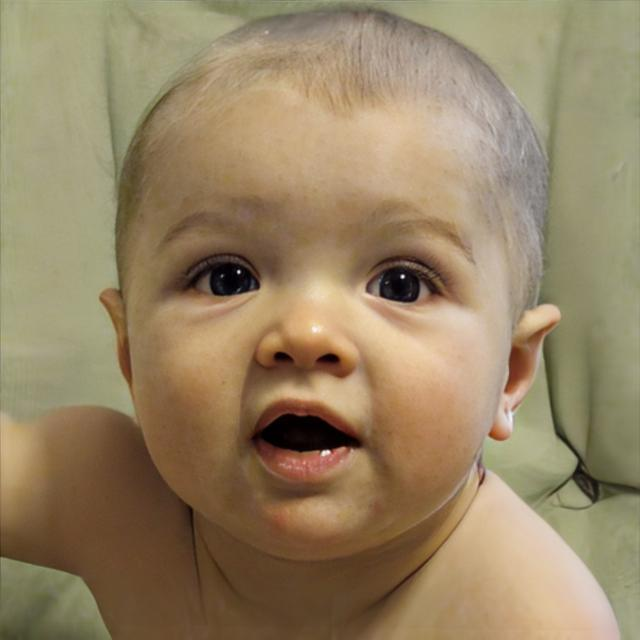surprise: (125, 76, 513, 564)
